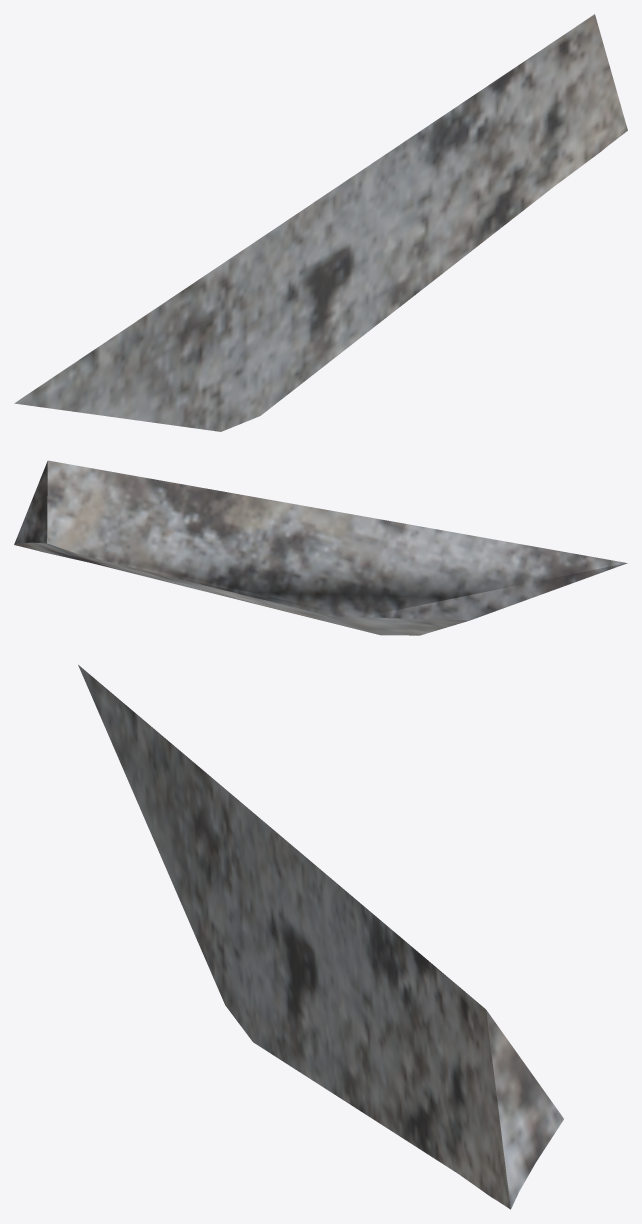
The model's file is Asteroid_Medium_001_02_005_03_001.fbx.
The picture shows the model from 3 angles, top to bottom: view 1: azimuth 30°, elevation 25°; view 2: azimuth 150°, elevation 25°; view 3: azimuth 270°, elevation 25°; orthographic projection. The views are drawn at different scales.
Visible parts, largest first — view 1: Asteroid_Medium_001_02_005_03_001; view 2: Asteroid_Medium_001_02_005_03_001; view 3: Asteroid_Medium_001_02_005_03_001.
Boxes of the visible parts, x1,y1,x2,y2 form: Asteroid_Medium_001_02_005_03_001: [14, 14, 627, 431]; Asteroid_Medium_001_02_005_03_001: [14, 460, 627, 635]; Asteroid_Medium_001_02_005_03_001: [78, 665, 563, 1209].
Size of the model in its own units: 7.59 by 2.16 by 3.16.
